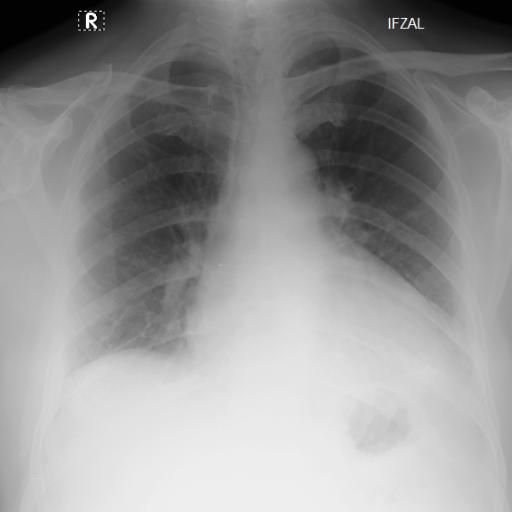kardiomegali: (25, 20, 500, 432)
